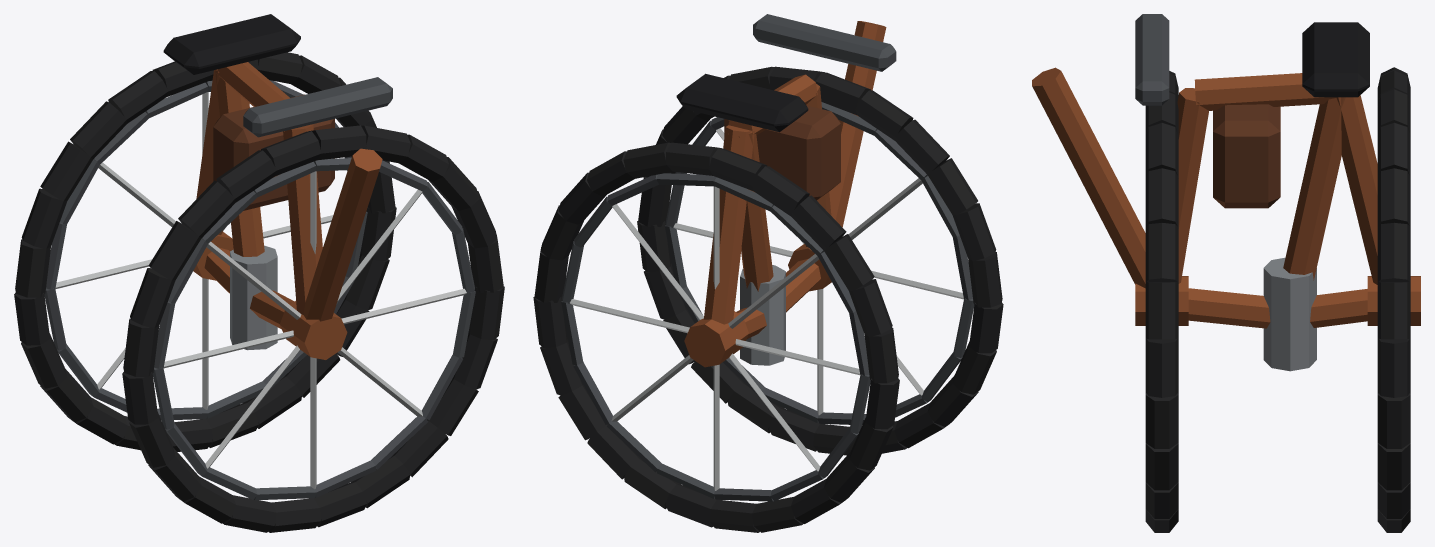
The model's file is piece_bicycle.fbx.
The picture shows the model from 3 angles, left to right: view 1: azimuth 30°, elevation 25°; view 2: azimuth 150°, elevation 25°; view 3: azimuth 270°, elevation 25°; orthographic projection. The views are drawn at different scales.
Parts seen in each view (by area): view 1: piece_bicycle; view 2: piece_bicycle; view 3: piece_bicycle.
Boxes of the visible parts, bbox=[...] form: piece_bicycle: bbox=[14, 14, 504, 532]; piece_bicycle: bbox=[533, 14, 1003, 532]; piece_bicycle: bbox=[1032, 14, 1420, 532].
Bounding box in the file's own units: 0.9694 × 1.06 × 0.8035.
